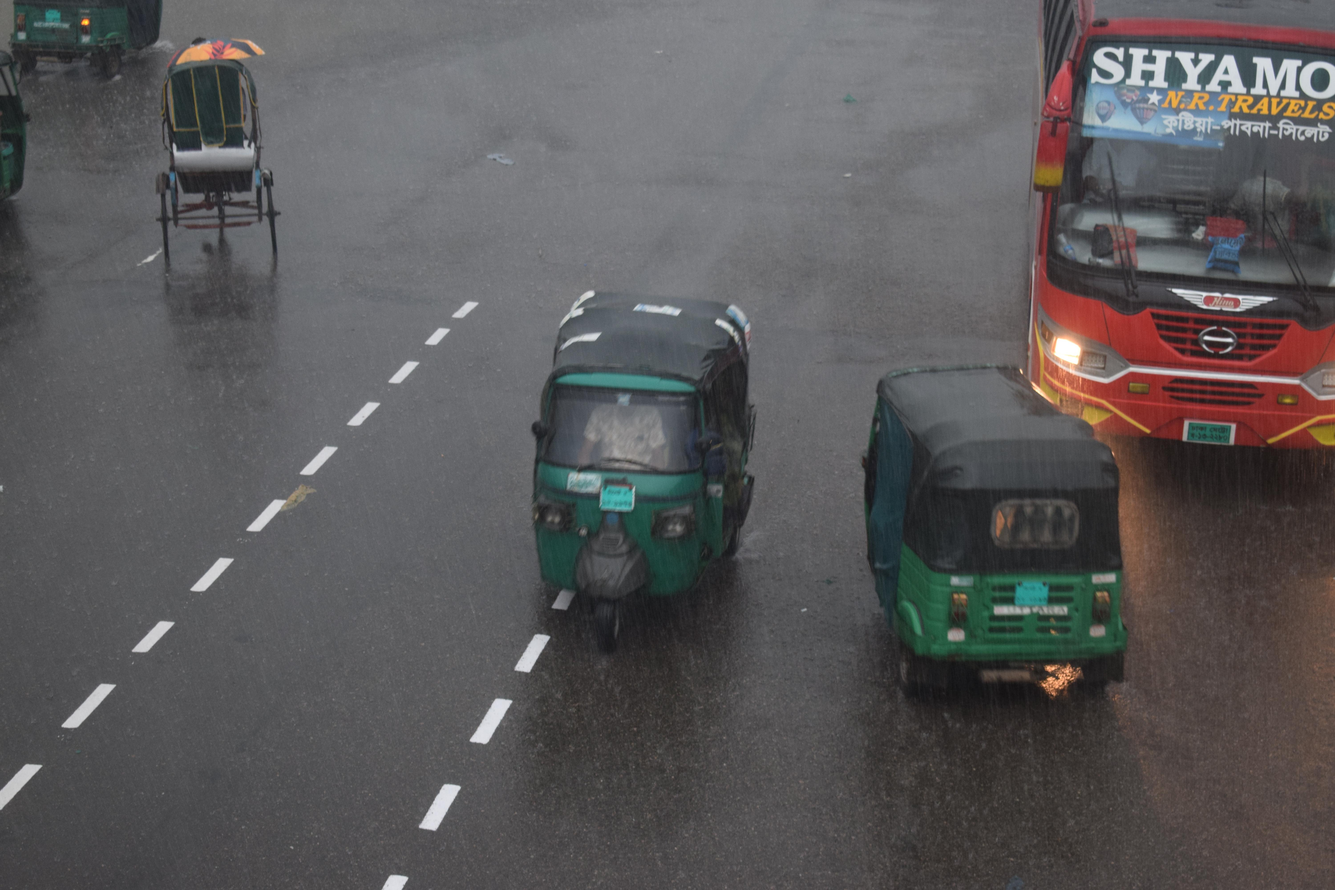Bus: (951, 0, 1335, 563)
Car: (807, 313, 1214, 781), (451, 210, 801, 676), (113, 7, 328, 316)
